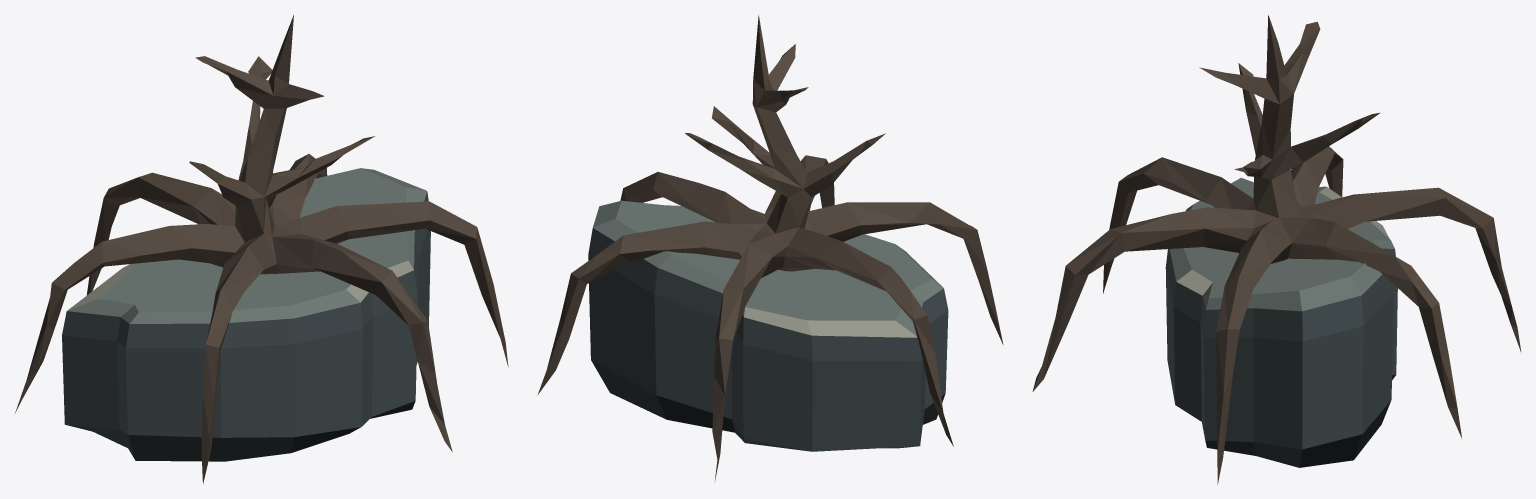
The model's file is BASALT_ROOT_SHRUB.lo.glb.
The picture shows the model from 3 angles, left to right: view 1: azimuth 30°, elevation 25°; view 2: azimuth 150°, elevation 25°; view 3: azimuth 270°, elevation 25°; orthographic projection. The views are drawn at different scales.
Visible parts, largest first — view 1: BASALT_ROOT_SHRUB; view 2: BASALT_ROOT_SHRUB; view 3: BASALT_ROOT_SHRUB.
Boxes of the visible parts, bbox=[...] form: BASALT_ROOT_SHRUB: bbox=[15, 15, 508, 483]; BASALT_ROOT_SHRUB: bbox=[537, 15, 1003, 482]; BASALT_ROOT_SHRUB: bbox=[1032, 15, 1521, 484].
Size of the model in its own units: 0.8625 by 0.7531 by 0.8527.
1 material, 1 textured.
